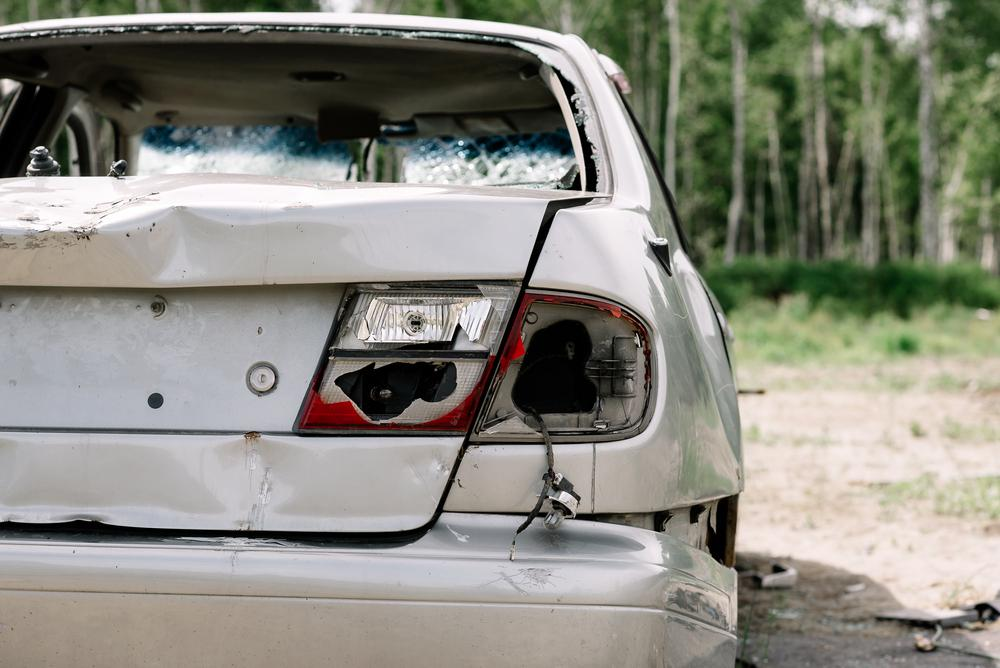dent: (0, 434, 460, 535), (0, 175, 326, 281)
lamp broken: (292, 281, 653, 438)
scratch: (658, 587, 729, 635), (505, 561, 561, 592)
